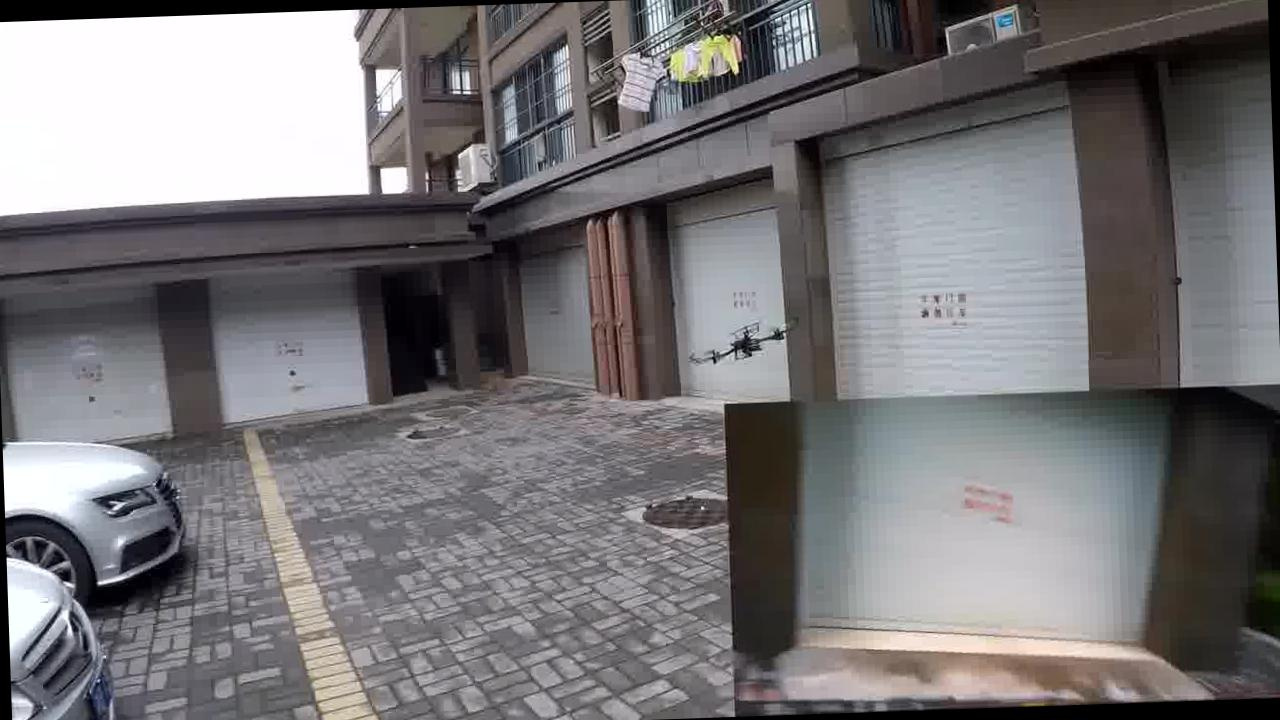drone: (682, 308, 796, 371)
